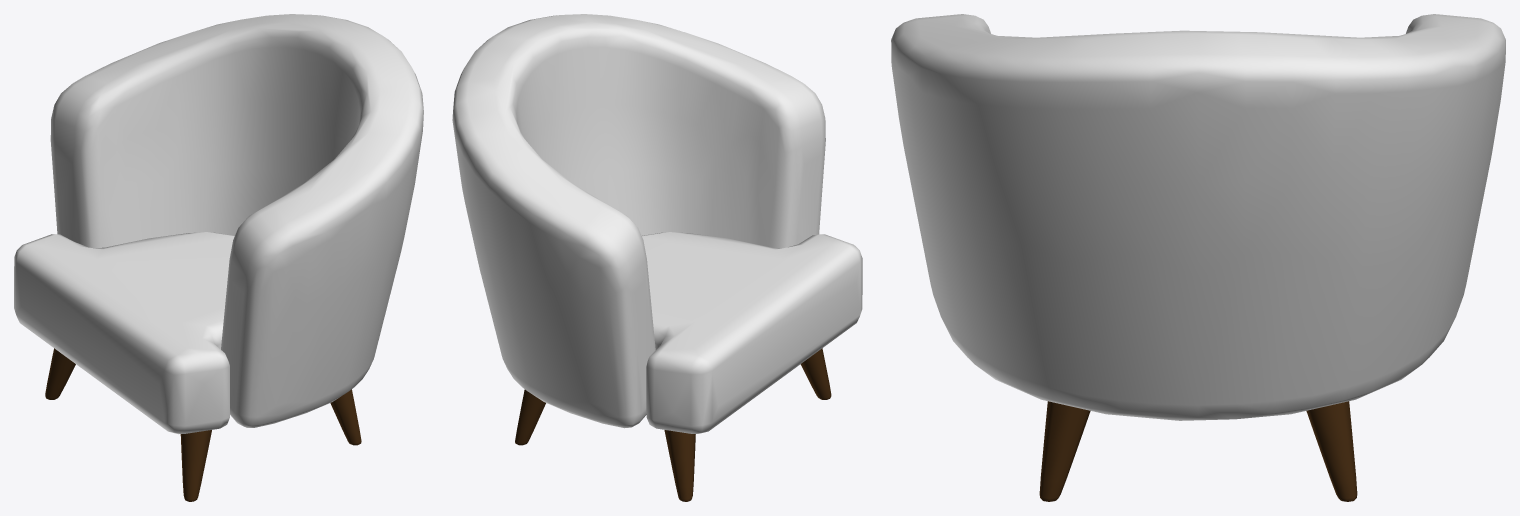
The model's file is armchair_07_white.fbx.
3 renders of one model, left to right at view 1: azimuth 30°, elevation 25°; view 2: azimuth 150°, elevation 25°; view 3: azimuth 270°, elevation 25°, orthographic. The views are drawn at different scales.
Parts seen in each view (by area): view 1: armchair_07_white; view 2: armchair_07_white; view 3: armchair_07_white.
Part boxes in pixels (<box>): armchair_07_white: <box>14,14,423,501</box>; armchair_07_white: <box>452,14,862,501</box>; armchair_07_white: <box>891,14,1505,501</box>.
Bounding box in the file's own units: 102 × 114 × 128.
Materials: 2 (2 with a texture image).
